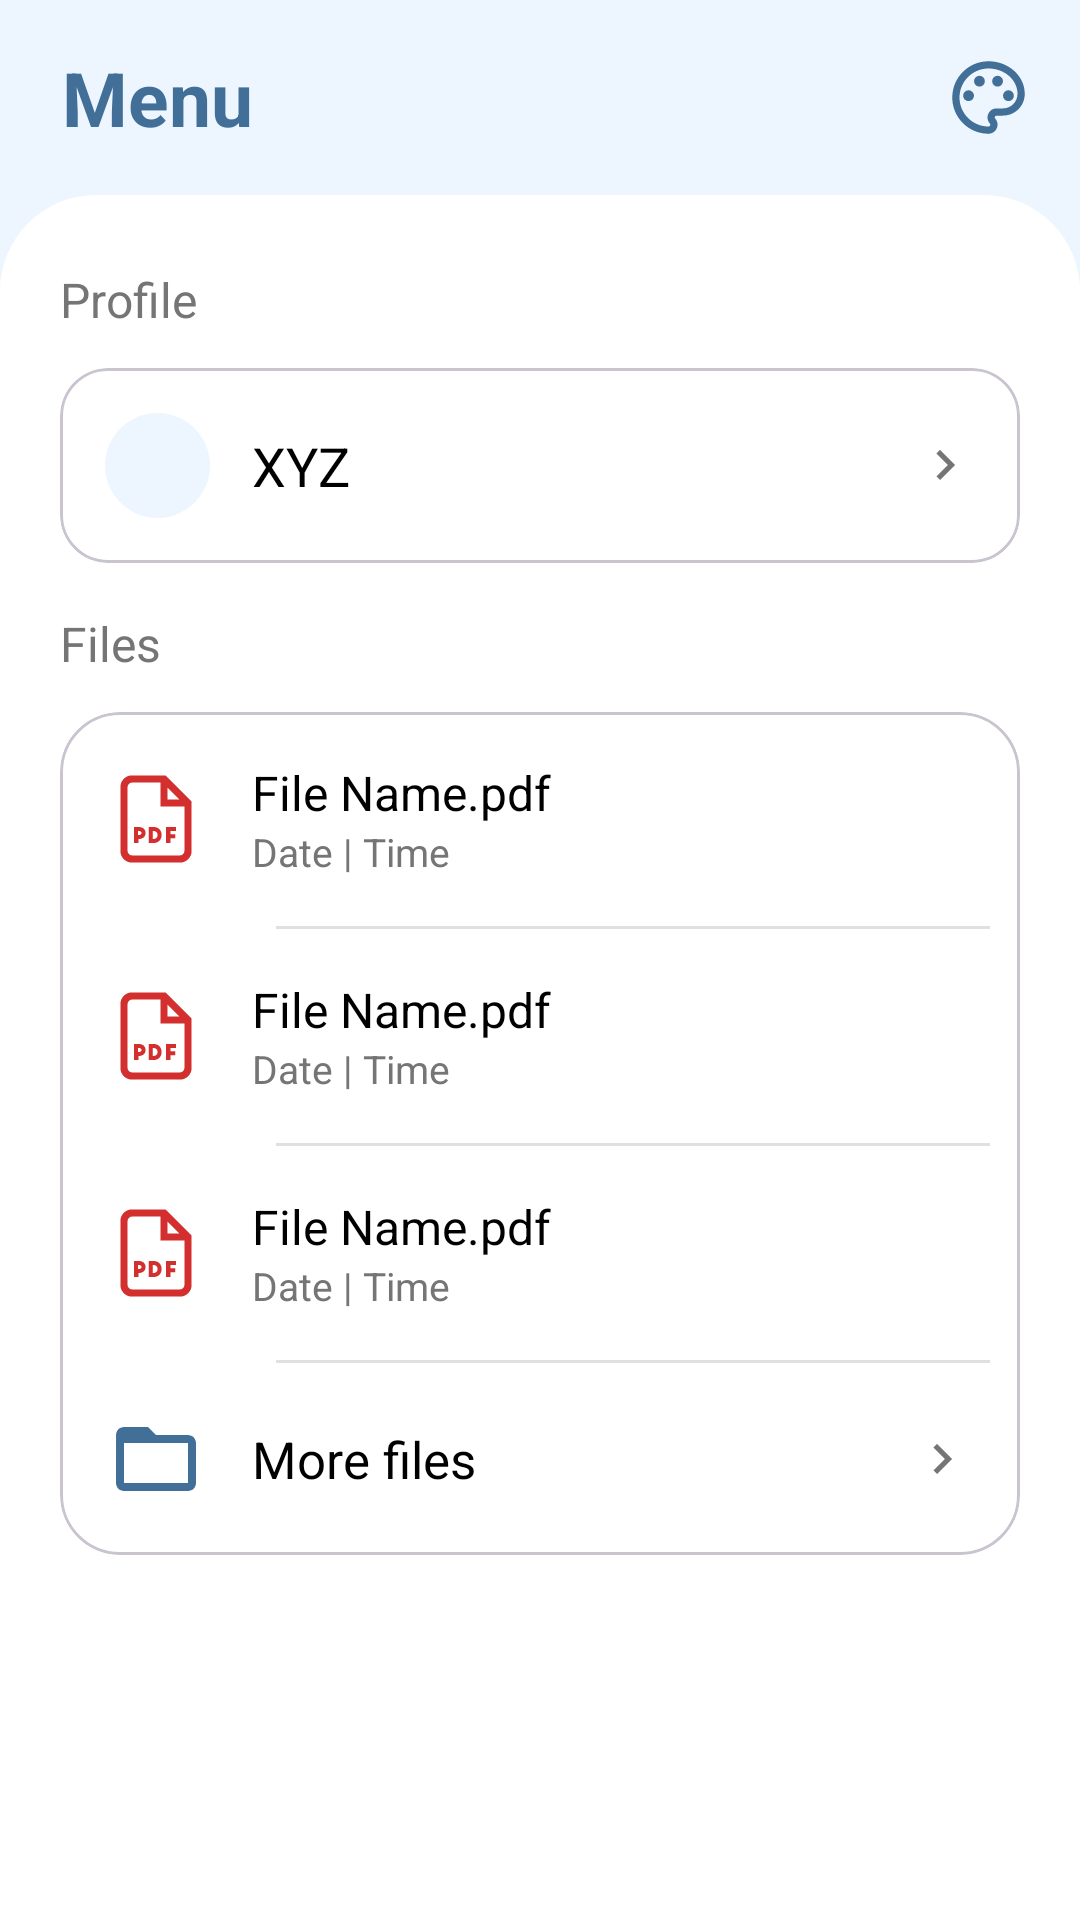

Icon bounding boxes for this 1080 x 1920 phone screenshot, format (x1, y1, x2, y2):
jayho theme: (952, 61, 1025, 134)
